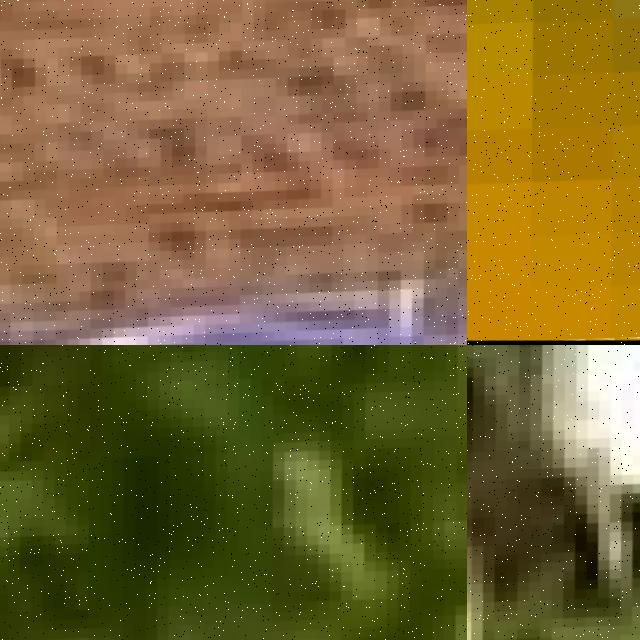drone: (0, 0, 467, 345), (0, 345, 467, 640), (467, 0, 640, 345), (467, 345, 640, 640)
